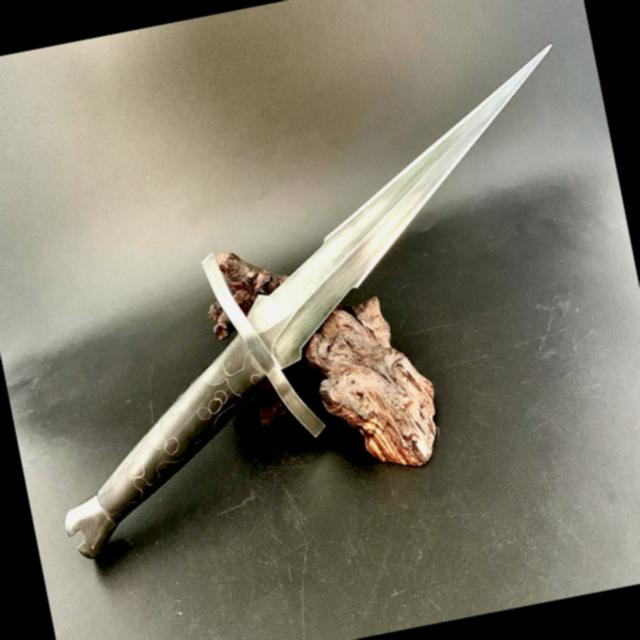short sword: (0, 27, 638, 574)
